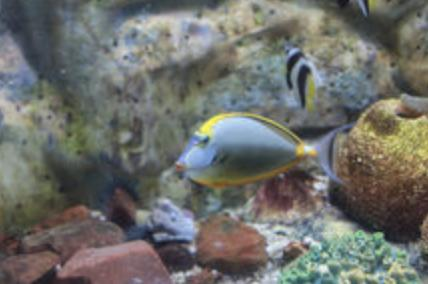Acanthuridae -Surgeonfishes-: (162, 111, 359, 194)
